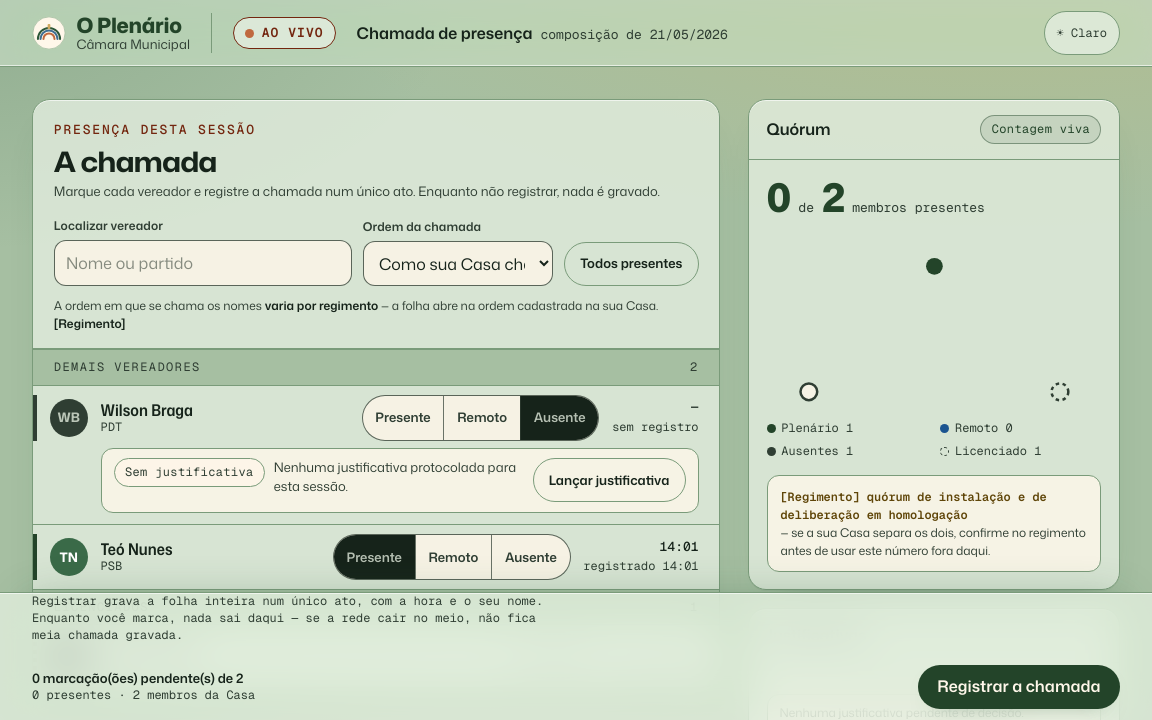
Scenario: PaginaChamada › marcação pendente: o MAPA e a LEGENDA acompanham, o NÚMERO do servidor não se mexe
Expected: the element "Quórum" shows "Plenário 1", top-left (748, 99), bottom-right (1120, 590)
Expected: the element "Quórum" shows "Ausentes 1", top-left (748, 99), bottom-right (1120, 590)
Click the button "Presente" in the row of "WB" at (403, 418), box top-left (363, 396), bottom-right (444, 440)
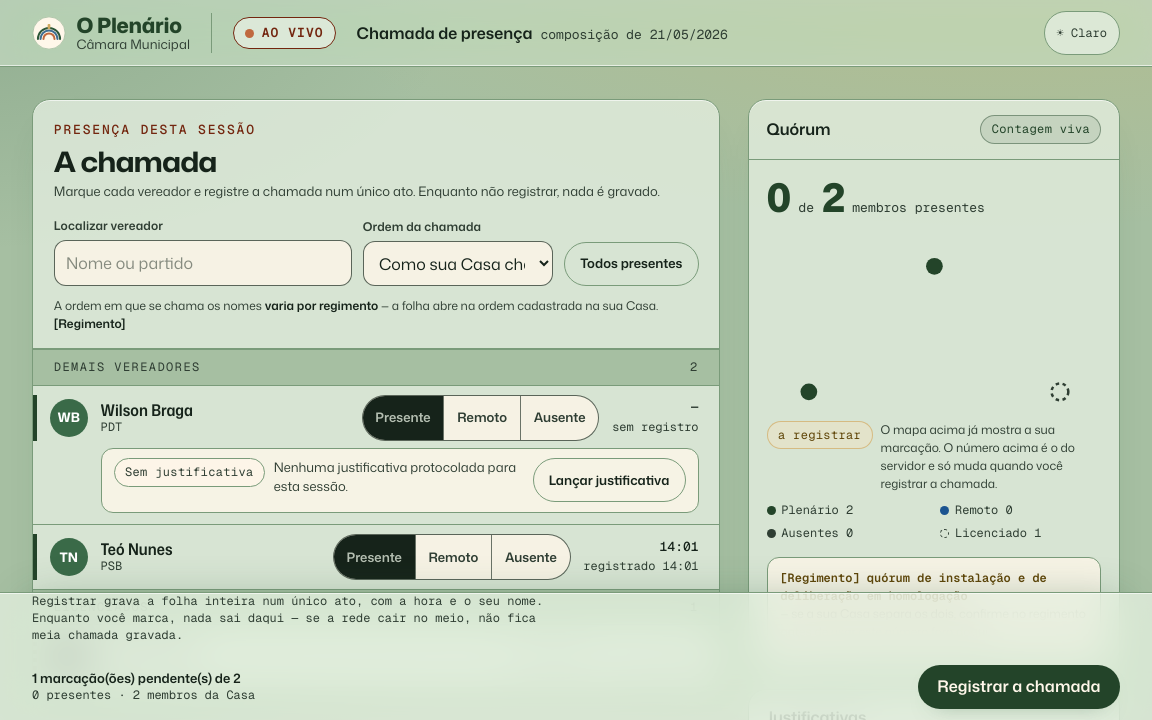
Expected: the element "Quórum" shows "Plenário 2", top-left (748, 99), bottom-right (1120, 672)
Expected: the element "Quórum" shows "Ausentes 0", top-left (748, 99), bottom-right (1120, 672)
Expected: the element "Quórum" shows "a registrar", top-left (778, 427), bottom-right (861, 443)
